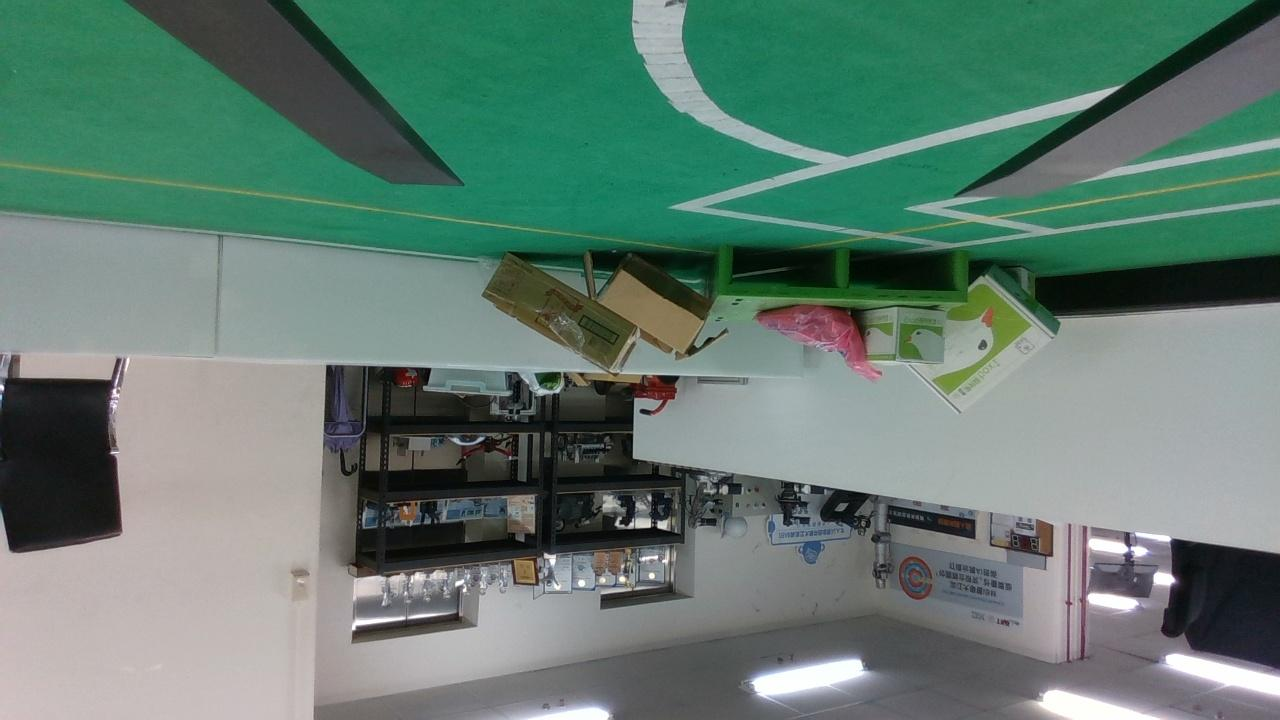Pallet: (718, 246, 968, 303)
